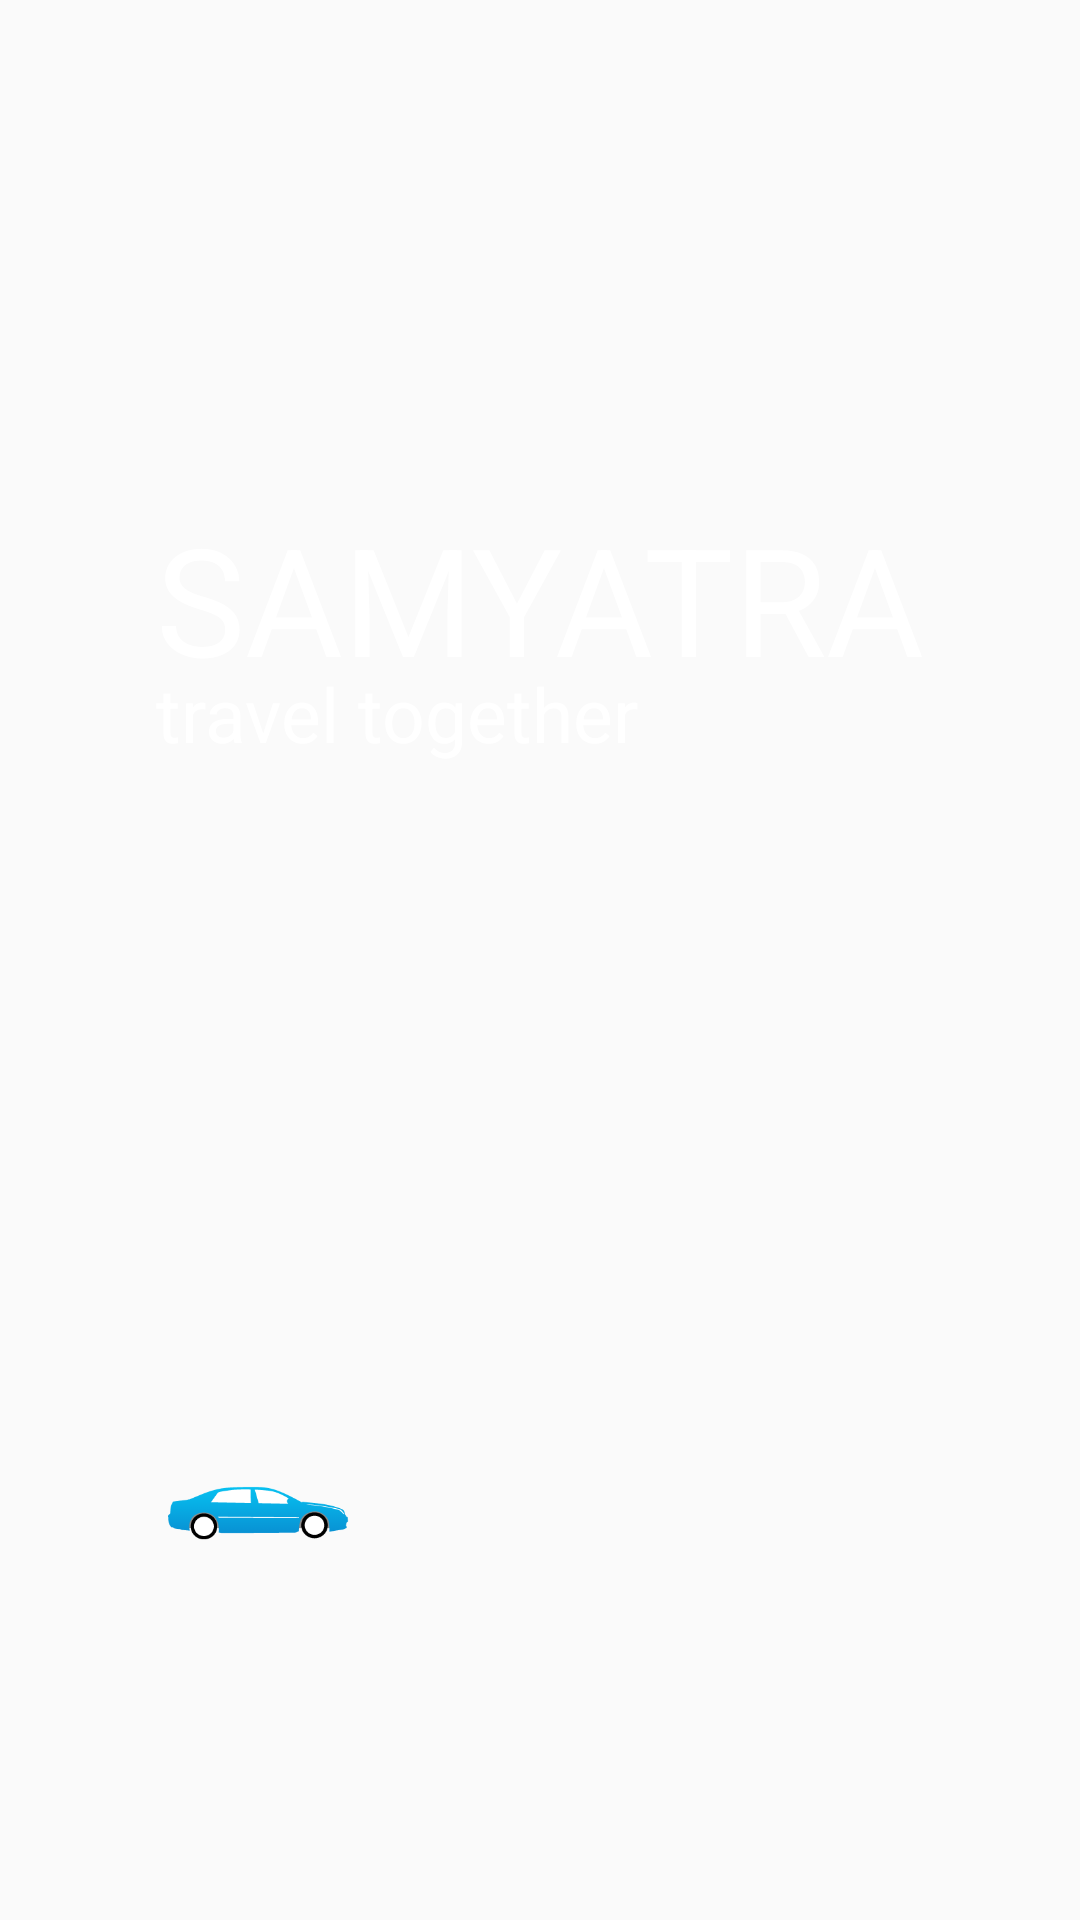

Where icons sit on this 1080px x 1920px app screen, as (x1, y1, x2, y2):
car: (168, 1487, 348, 1540)
